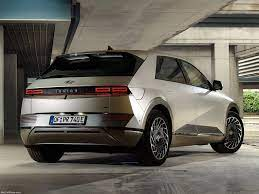Honda Ioniq: (16, 39, 249, 181)
